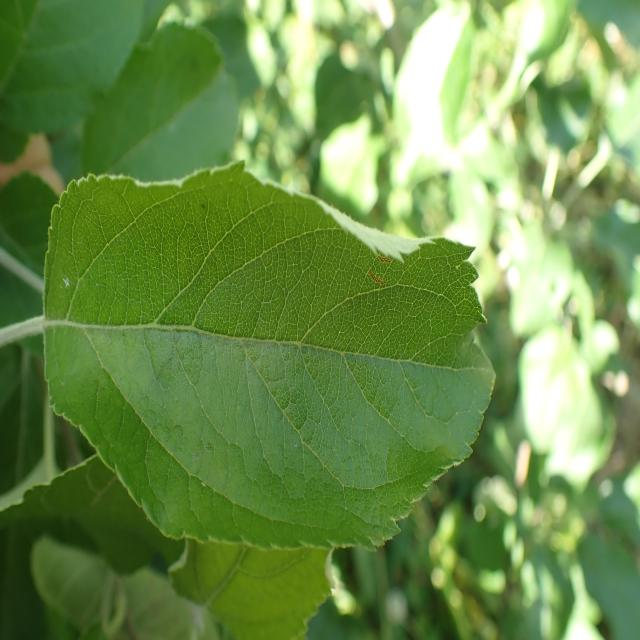healthy: (43, 159, 498, 552), (1, 0, 162, 135)
